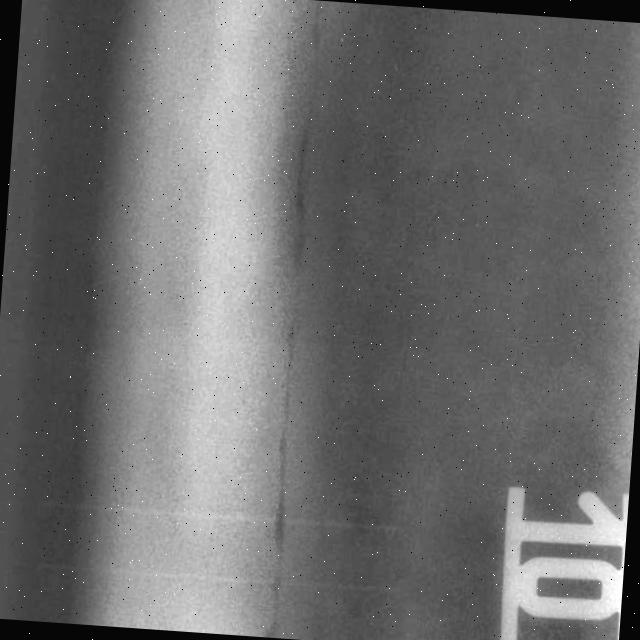LoP-LoF: (240, 0, 346, 635)
